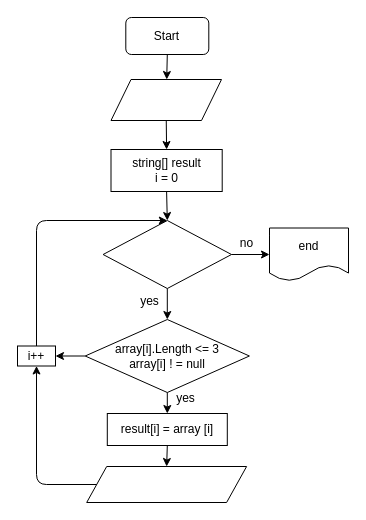
Image size: 366x520. Some labels were removed from this diagram. The box of each missing label's shape, as (x1, y1, x2, y2) in pixels:
Console.Write(result[i]): (86, 466, 247, 502)
i < array.Length: (102, 220, 232, 288)
string[] array: (110, 78, 222, 120)
